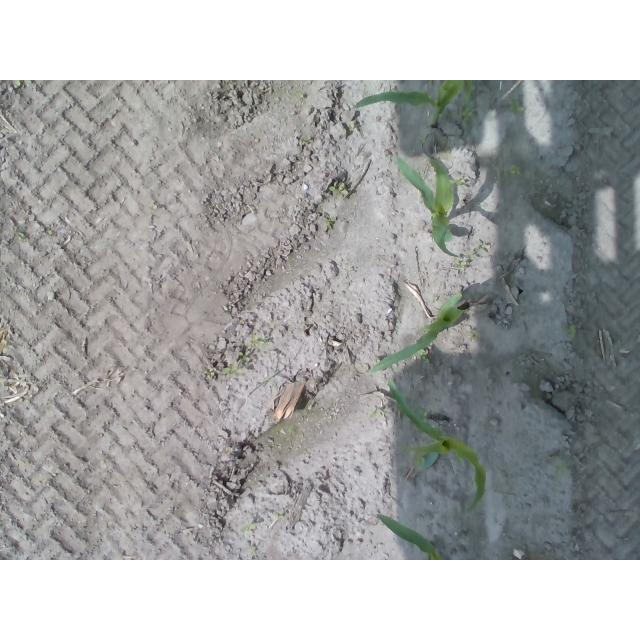Maize: (389, 379, 487, 513), (371, 291, 466, 373), (395, 153, 459, 259), (350, 80, 466, 130), (374, 512, 451, 561)
Weeds: (223, 359, 243, 379), (328, 181, 349, 199), (459, 104, 476, 120), (503, 164, 522, 177), (473, 242, 491, 253), (509, 100, 525, 112), (1, 339, 13, 354), (239, 350, 250, 364), (416, 349, 428, 361), (14, 230, 27, 241), (566, 324, 576, 338), (325, 215, 335, 229), (13, 81, 32, 88), (254, 335, 266, 346), (454, 259, 466, 270), (556, 462, 566, 474), (279, 426, 294, 434), (369, 408, 383, 416), (417, 455, 428, 465), (204, 369, 215, 379), (242, 525, 254, 534), (348, 121, 356, 131), (420, 136, 427, 145), (456, 179, 464, 186), (277, 512, 284, 519)
